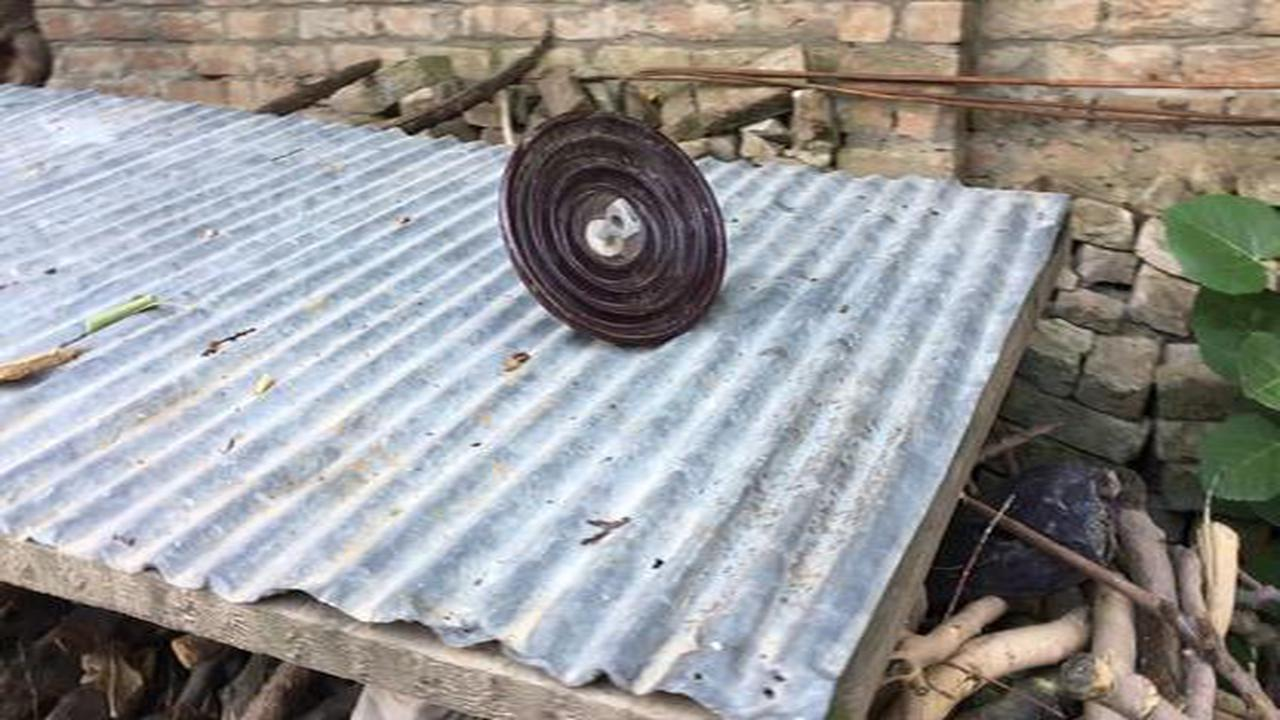insulator_disc: (492, 109, 736, 352)
